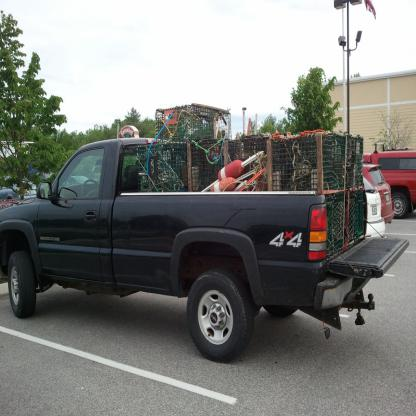Car: (363, 156, 395, 224)
Truck: (0, 103, 409, 363)
